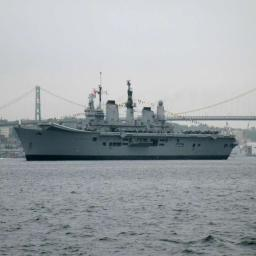Portanaves: (15, 75, 242, 164)
